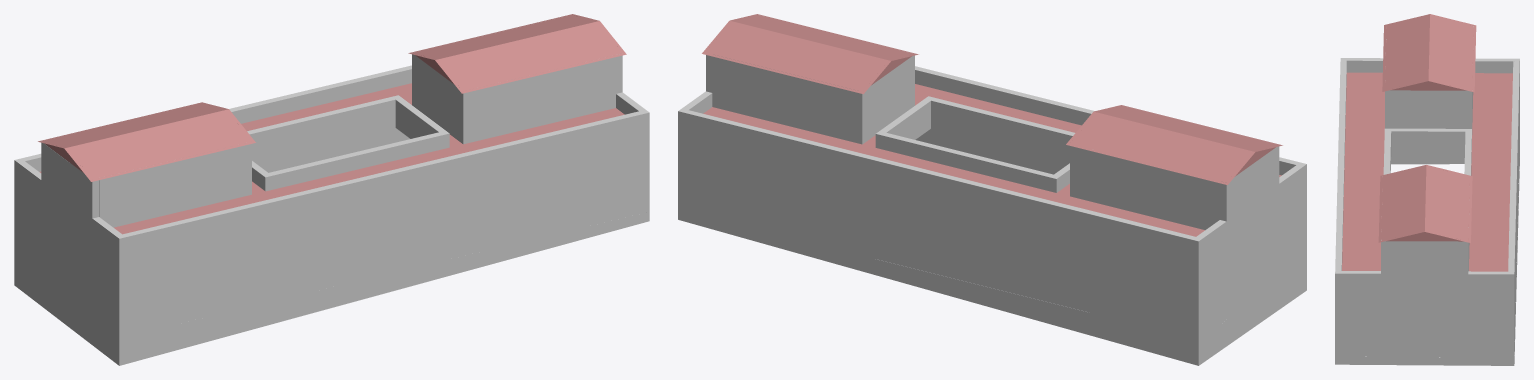
File: LOD_Block_3_76.glb
The picture shows the model from 3 angles, left to right: view 1: azimuth 30°, elevation 25°; view 2: azimuth 150°, elevation 25°; view 3: azimuth 270°, elevation 25°; orthographic projection. The views are drawn at different scales.
Visible parts, largest first — view 1: mesh_CityEngineMaterial_1246; view 2: mesh_CityEngineMaterial_1246; view 3: mesh_CityEngineMaterial_1246.
Part boxes in pixels (x1,y1,x2,y2): mesh_CityEngineMaterial_1246: (14,14,649,365); mesh_CityEngineMaterial_1246: (678,14,1306,365); mesh_CityEngineMaterial_1246: (1335,14,1519,365).
Size of the model in its own units: 39.75 by 12.73 by 14.22.
